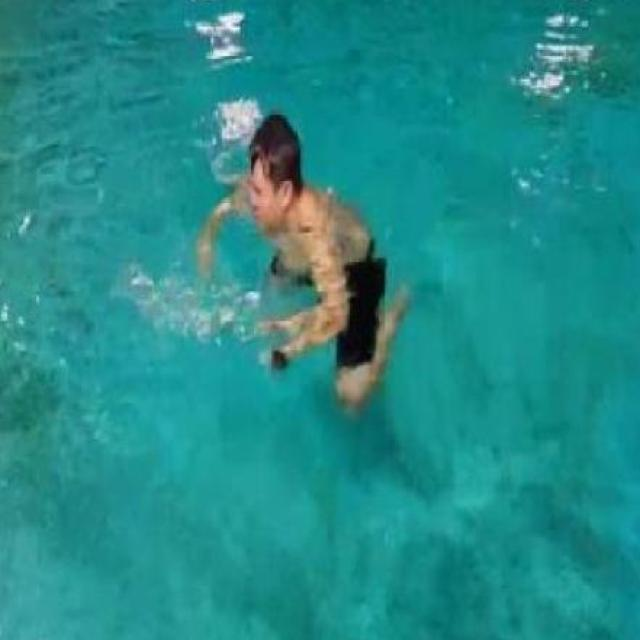Swimming: (203, 111, 411, 412)
